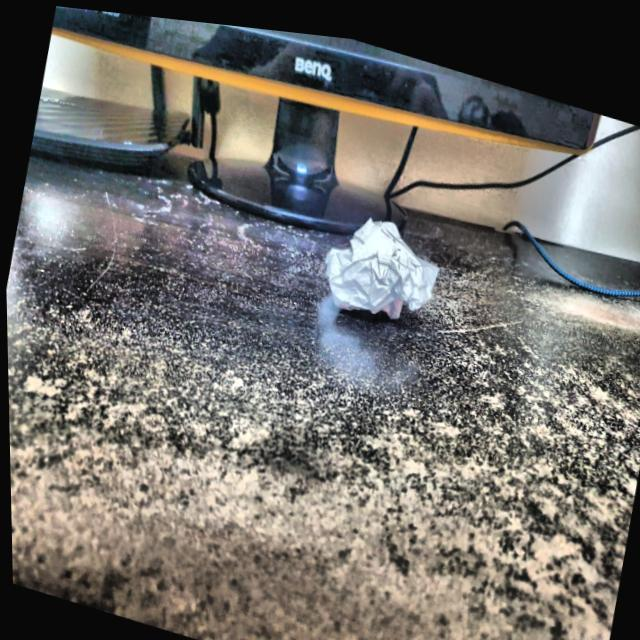Paper: (314, 191, 452, 337)
